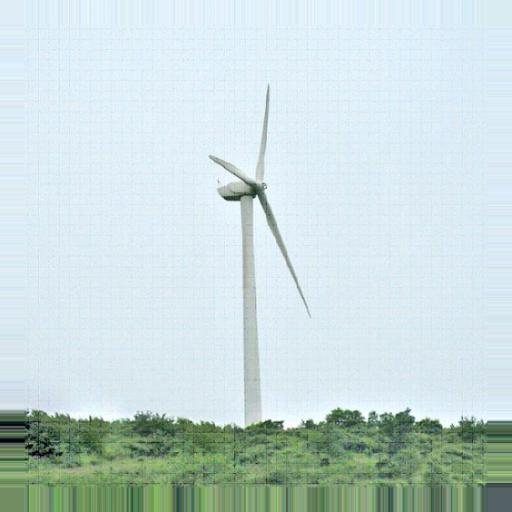wind turbine: (205, 81, 312, 425)
